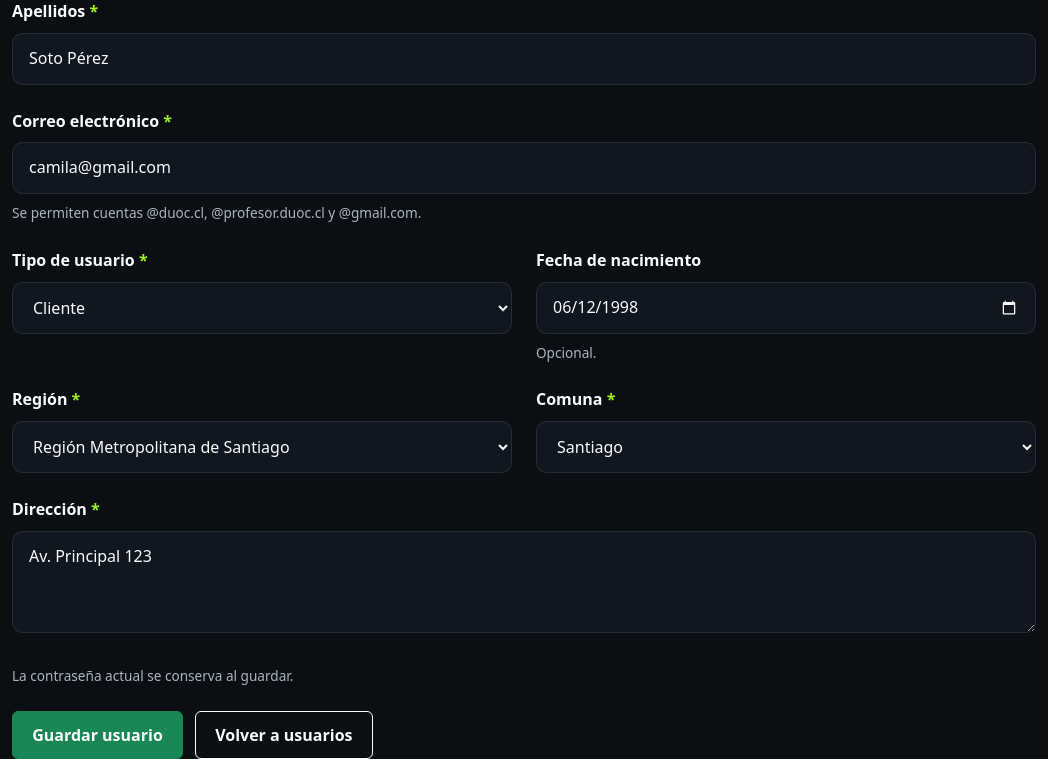
it: AdminUserForm › bloquea el envío repetido y recupera el formulario después de un error
(page scrolled)
Click the button "Guardar usuario". click: (98, 735)
box: [12,711,183,758]
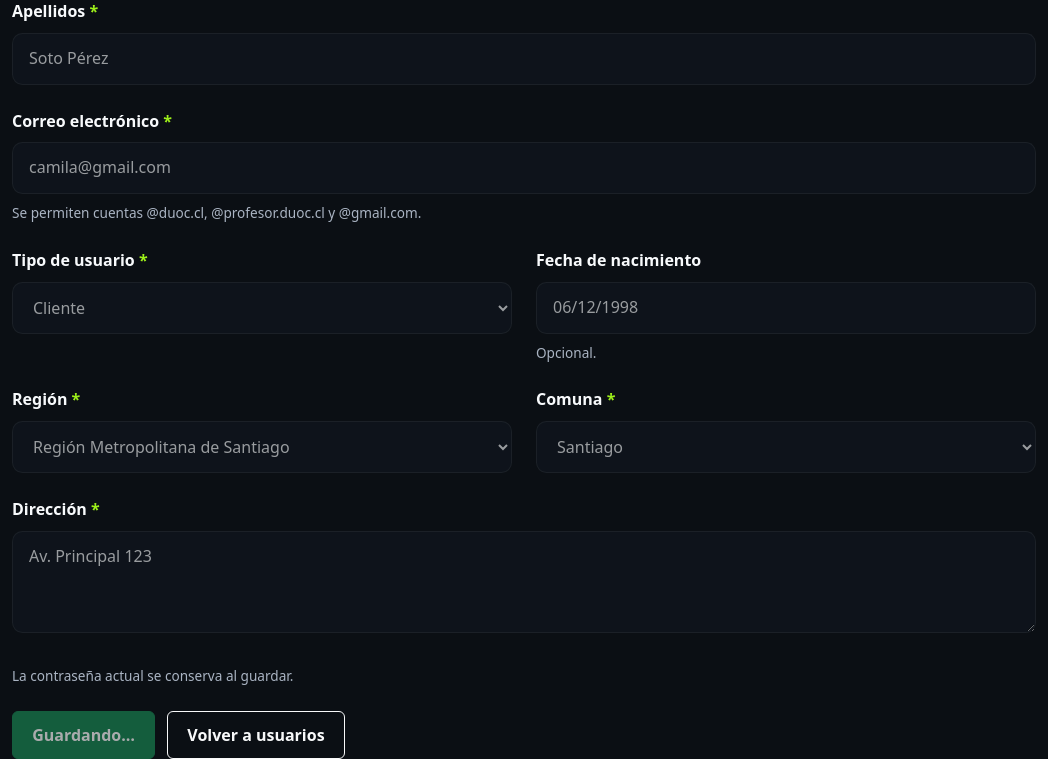
Check: the button "Guardando…" is disabled
Click the button "Guardando…". click: (84, 735)
box: [12,711,155,758]
(page scrolled)
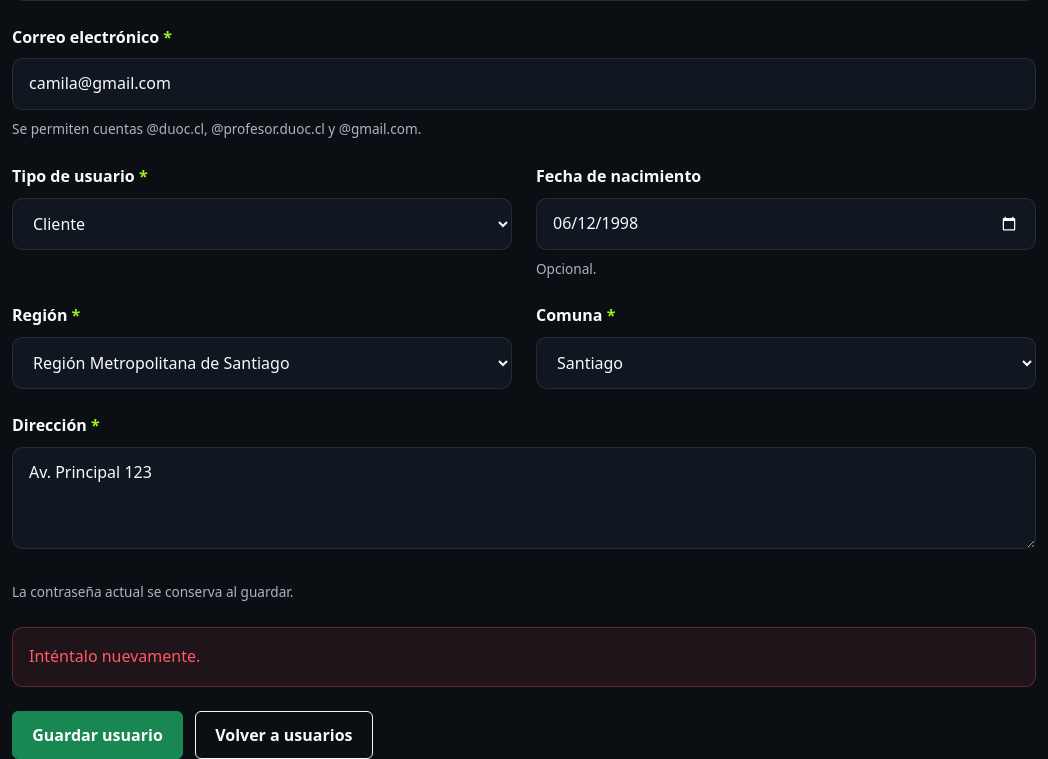
Check: the message reads "Inténtalo nuevamente.", box [29,645,200,667]
Check: the button "Guardar usuario" is enabled, box [12,711,183,758]
